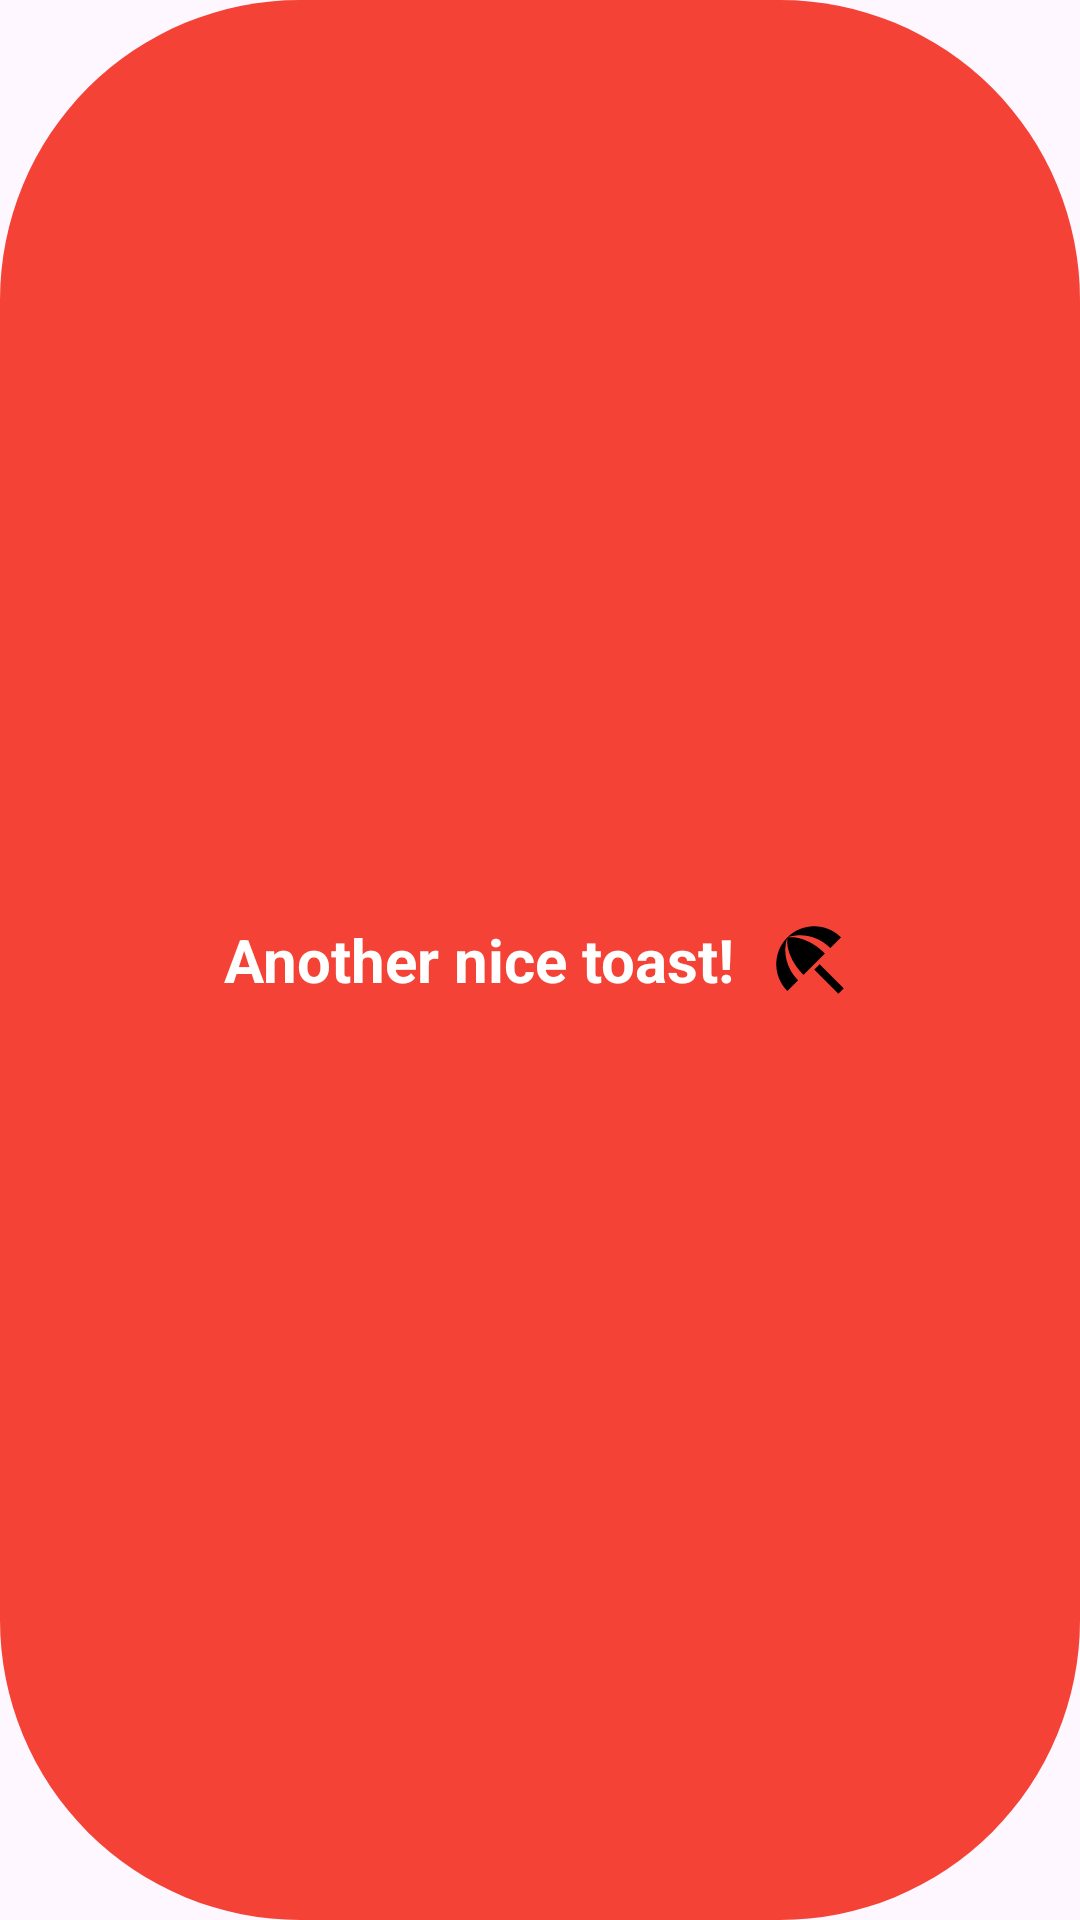

Icon click points for this 1080 x 1920 phone screenshot, format (x=x, y=y):
beach access: (x=810, y=960)
